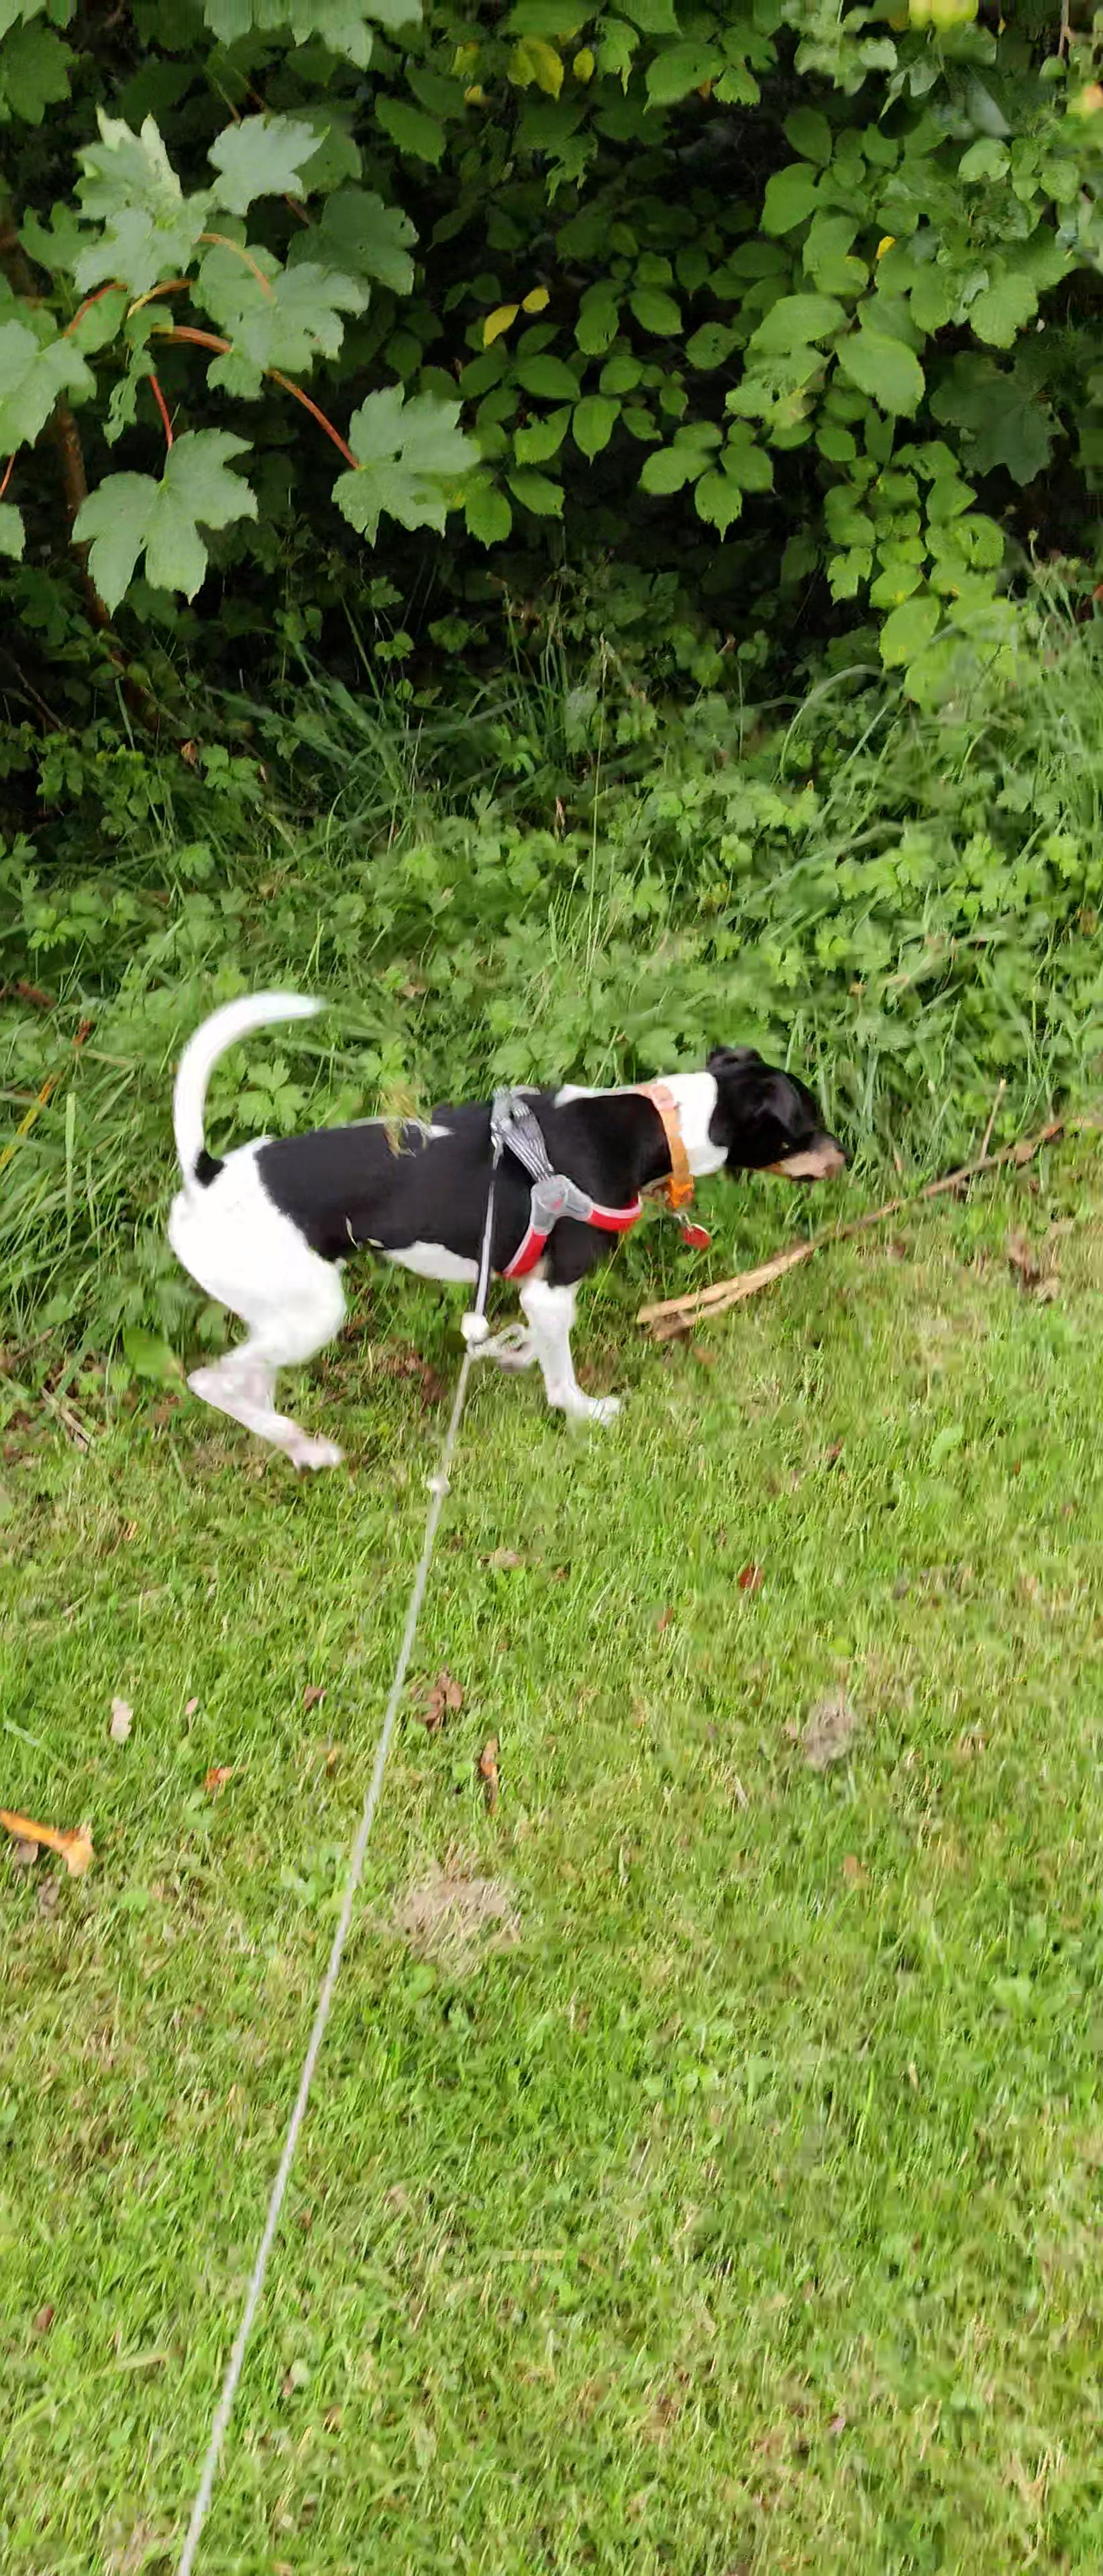Dog: (104, 973, 876, 1475)
